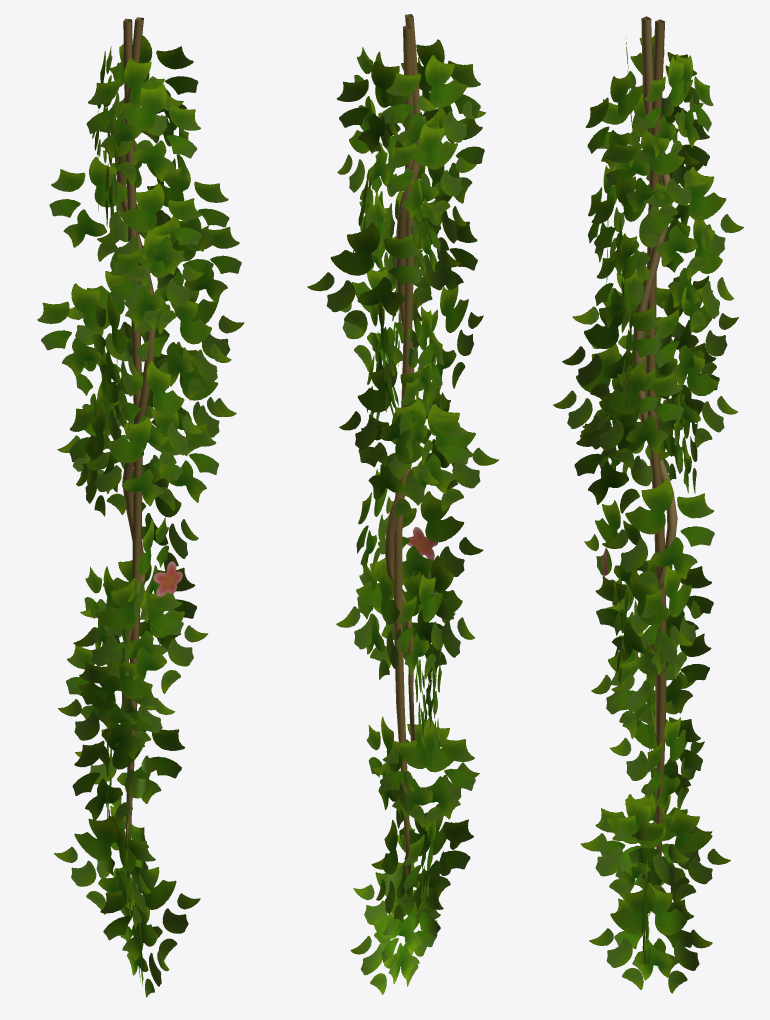
Rendered from P_IvyCoastalVine02.obj.
3 views of the same model, side by side, from view 1: azimuth 30°, elevation 25°; view 2: azimuth 150°, elevation 25°; view 3: azimuth 270°, elevation 25° (orthographic).
Size of the model in its own units: 2.09 by 10.26 by 2.04.
